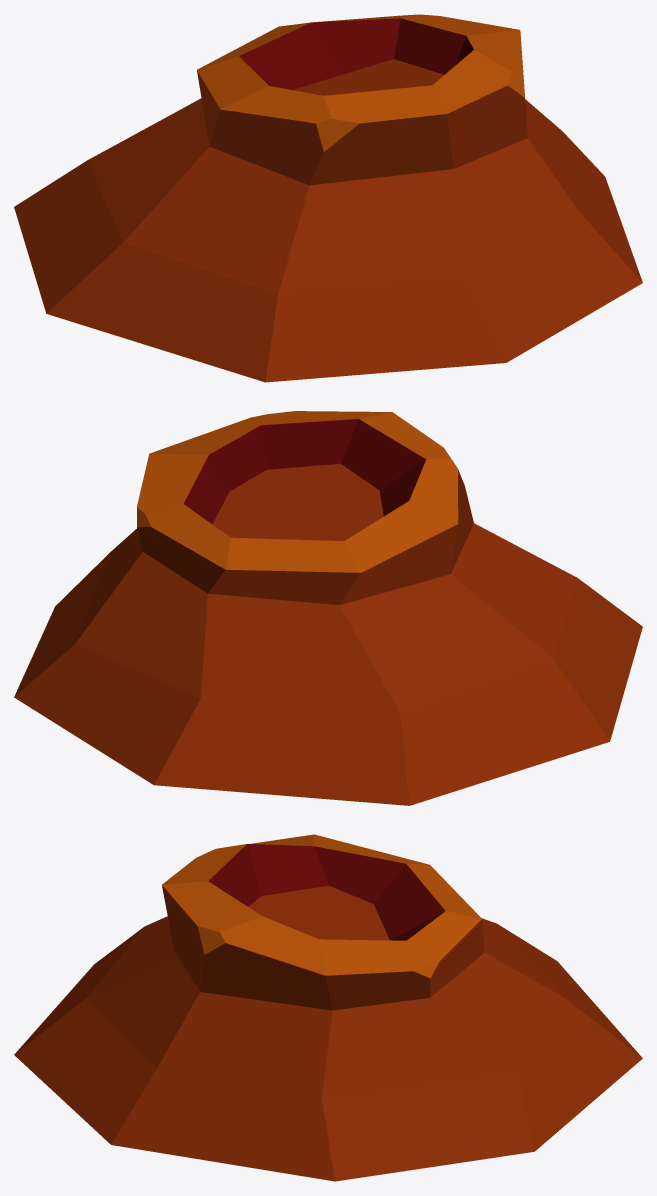
Rendered from Crater_03.glb.
3 views of the same model, one above another, from view 1: azimuth 30°, elevation 25°; view 2: azimuth 150°, elevation 25°; view 3: azimuth 270°, elevation 25° (orthographic). The views are drawn at different scales.
Parts seen in each view (by area): view 1: Crater_03; view 2: Crater_03; view 3: Crater_03.
Part boxes in pixels (x1,y1,x2,y2): Crater_03: (14,14,642,382); Crater_03: (14,411,642,805); Crater_03: (14,834,642,1181).
Size of what is drawn, in the model's own units: 1.75 by 0.5952 by 1.79.
Materials: 1 (1 with a texture image).
